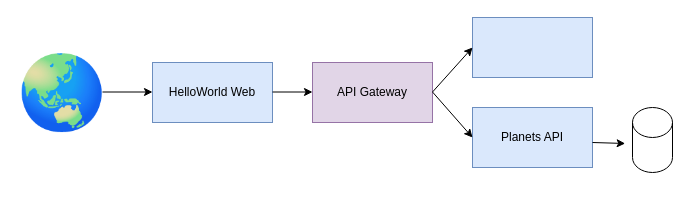
This 696x213 diagram has some shape labels left out. The centre of each missing label's shape, as x and y in pixels:
Greetings API: point (532, 47)
planets.json: point (652, 139)
